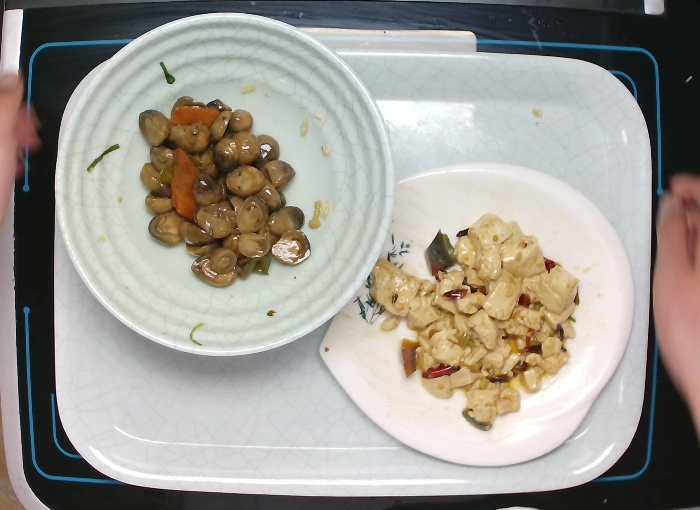JYsf-Da_Tang_Wan: (51, 9, 400, 361)
JYsf-Mian_Pan: (321, 158, 643, 474)
